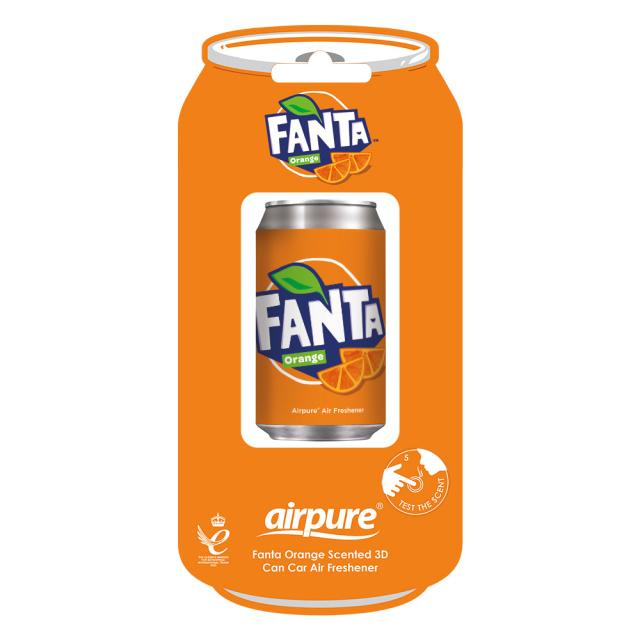fanta: (254, 202, 383, 442)
